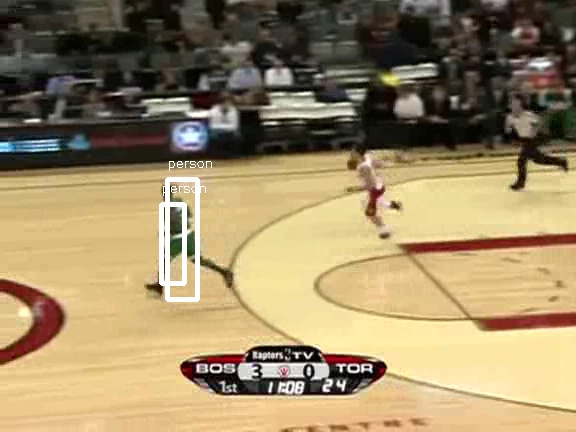person: (163, 193, 197, 274), (162, 193, 196, 274), (164, 193, 198, 274), (163, 192, 197, 273), (163, 194, 197, 275)
target_negative: (300, 123, 565, 335), (78, 135, 210, 302), (292, 65, 510, 134), (536, 149, 574, 343), (377, 360, 414, 388), (562, 24, 564, 53)
